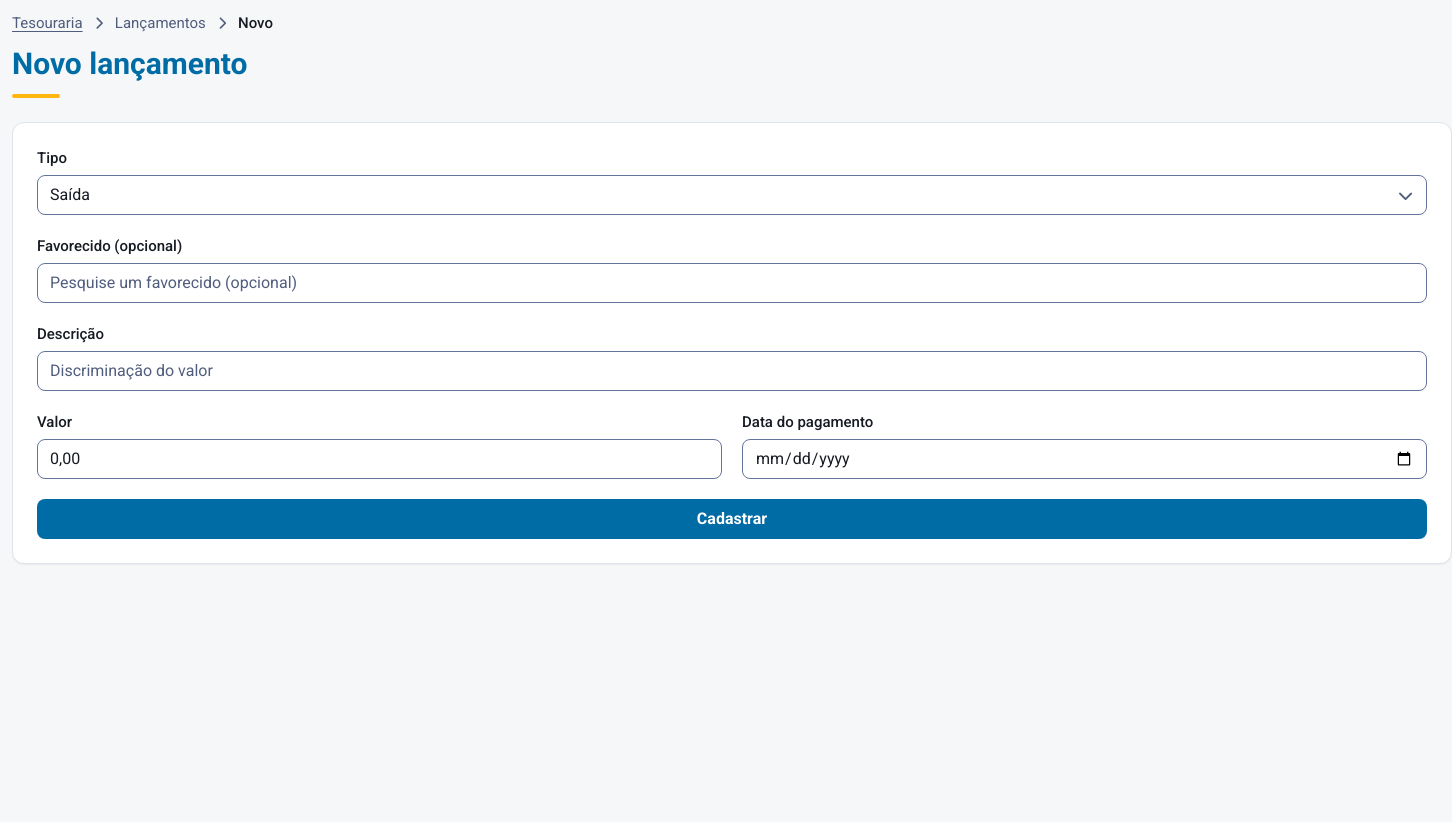
Test case: novo lançamento counterpart integration › clears unfinished search text and requires a donor when changing to an entry
Type "pesquisa incompleta" into the dropdown with id "contraparteId". click: [732, 283]
box: [37, 263, 1427, 303]
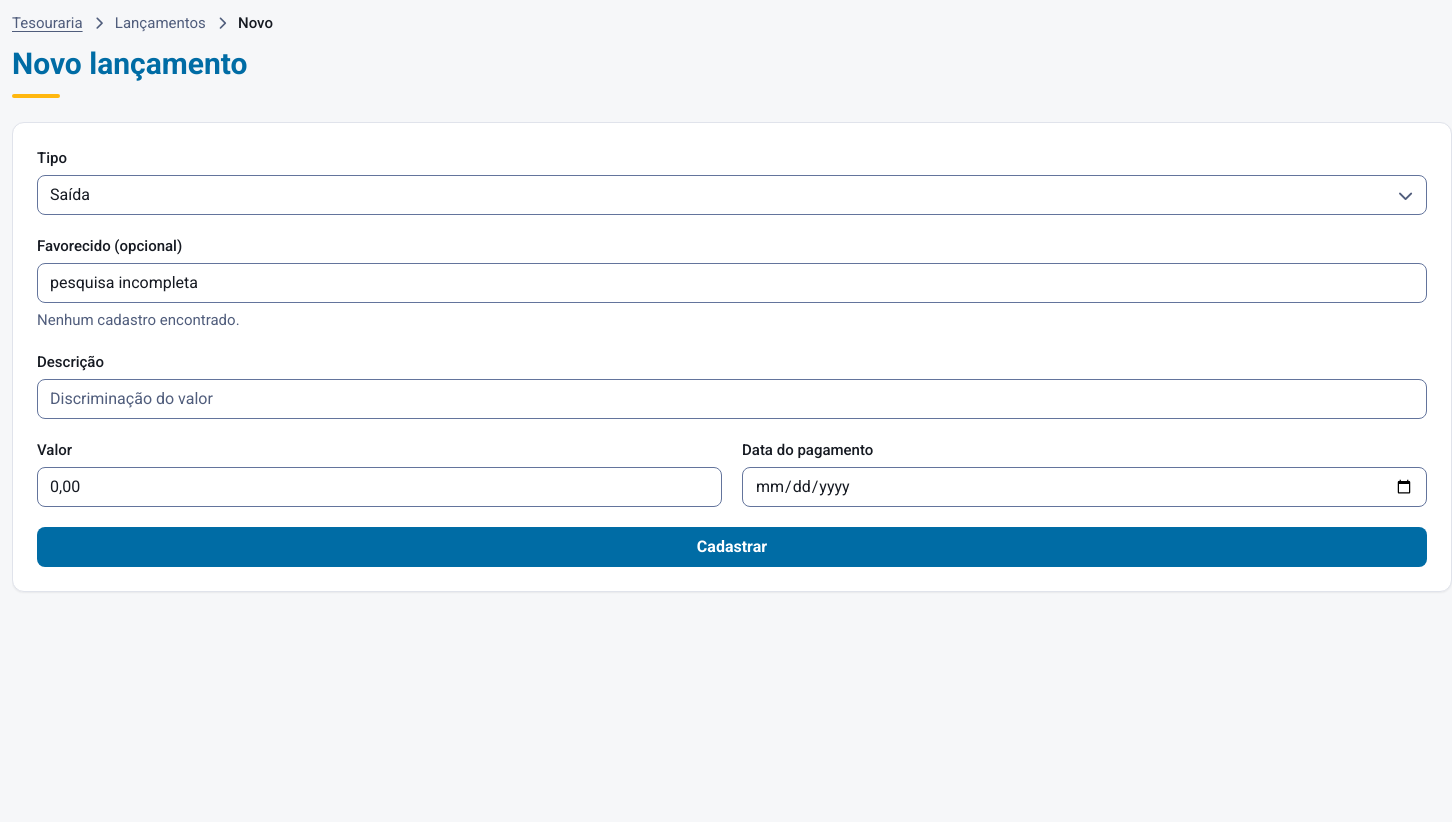
Select "Entrada" in the dropdown with id "tipo". click: [732, 195]
box: [37, 175, 1427, 215]
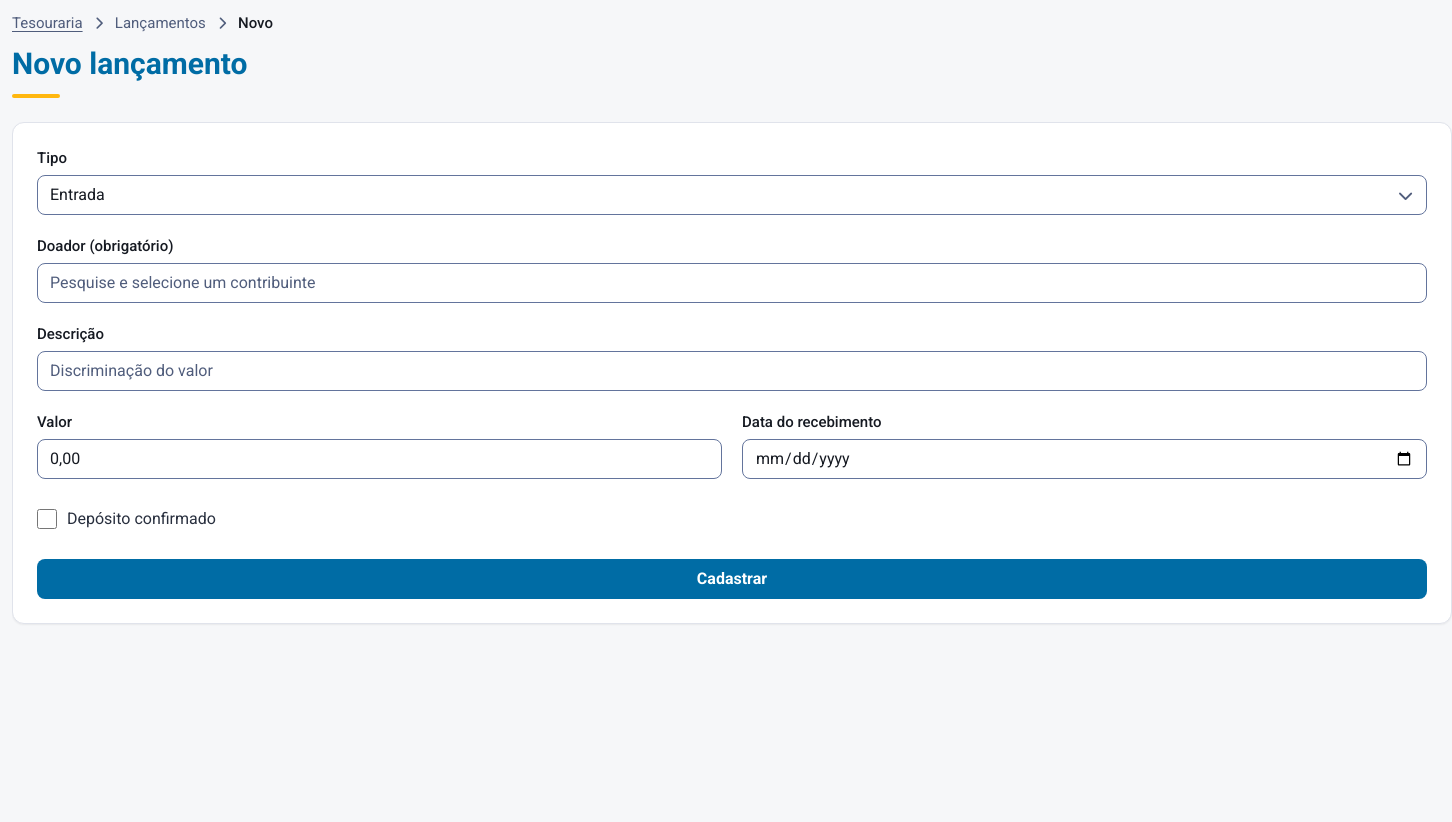
expect the dropdown with id "contraparteId" is empty: met, box [37, 263, 1427, 303]
expect the checkbox with id "depositado" is not checked: met, box [37, 509, 57, 529]
